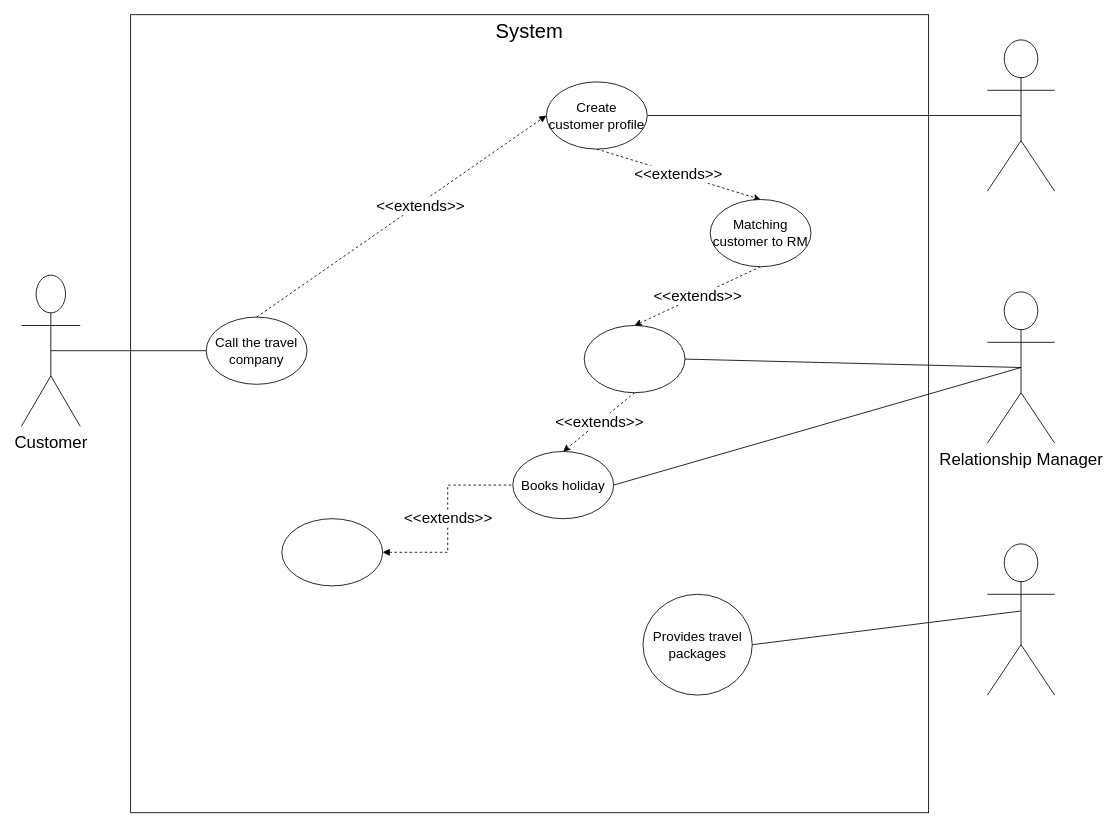
This 1117x827 diagram has some shape labels left out. The shapes that lost their labels are listed below. From the top down, each one's centre as x and y in pixels, then its label:
At pixel 1021 115: "Profiler Tool".
At pixel 634 359: "Receives call".
At pixel 332 552: "Paying for the package".
At pixel 1021 619: "Travel Company".
